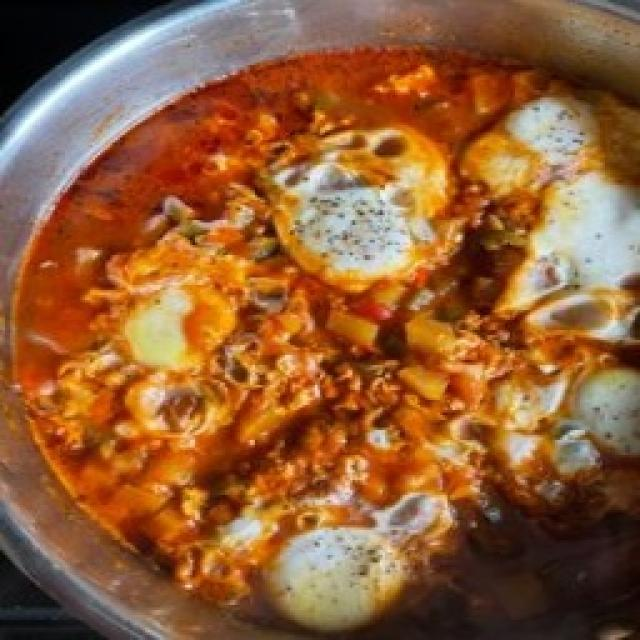Chakchouka: (16, 55, 640, 629)
